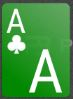Clover: (7, 35, 26, 55)
